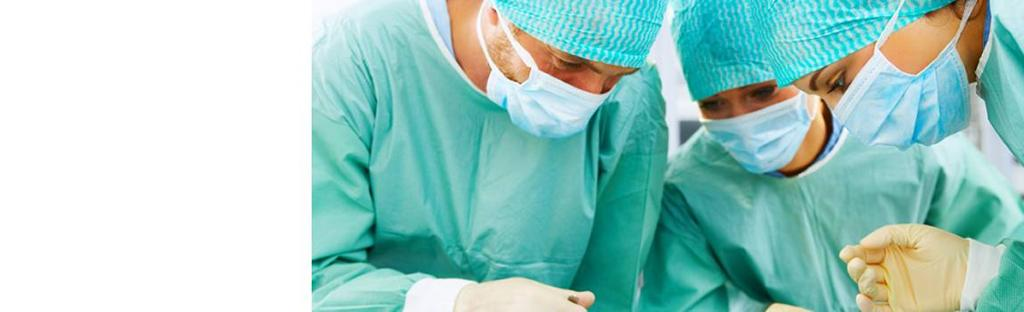face: (740, 26, 970, 148), (512, 10, 654, 138), (698, 44, 820, 170)
